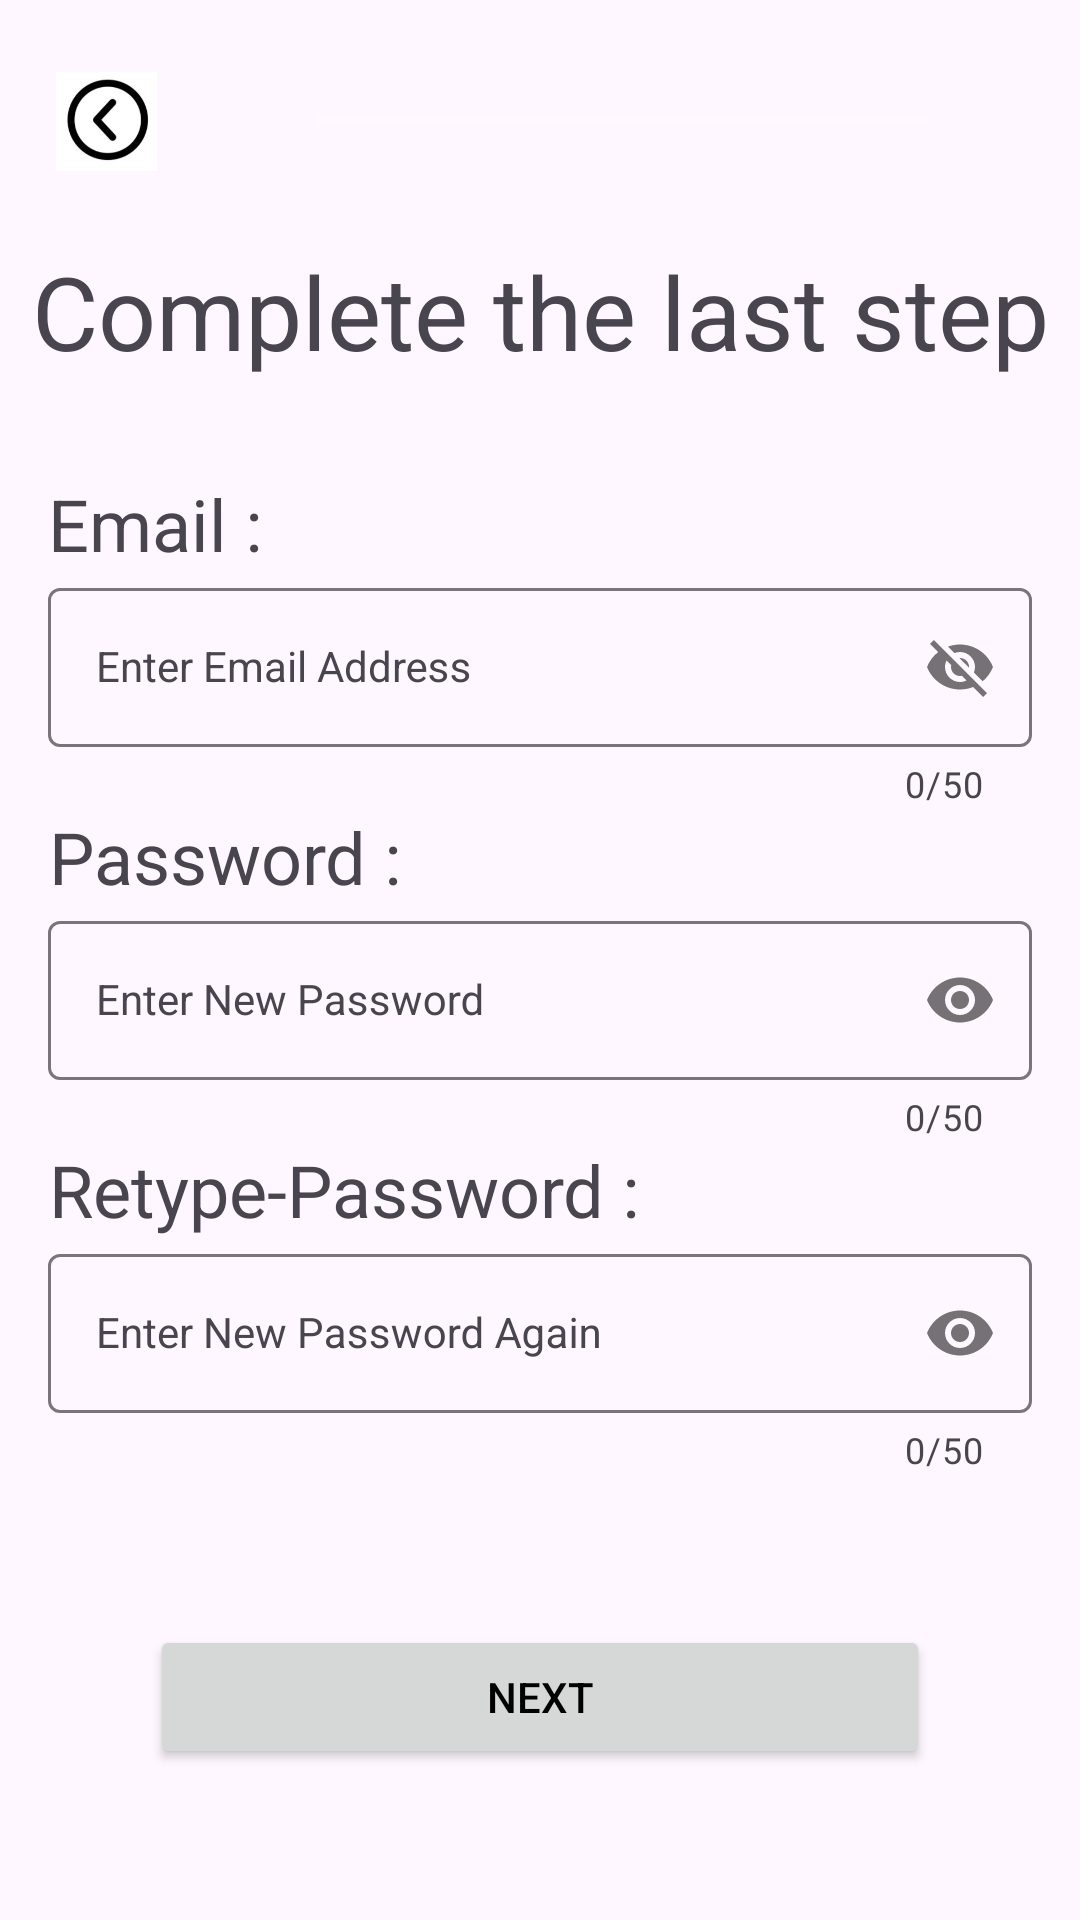

Point at icon controls on the screen. Image size 1080×1920, points as (x,y).
back: (107,119)
